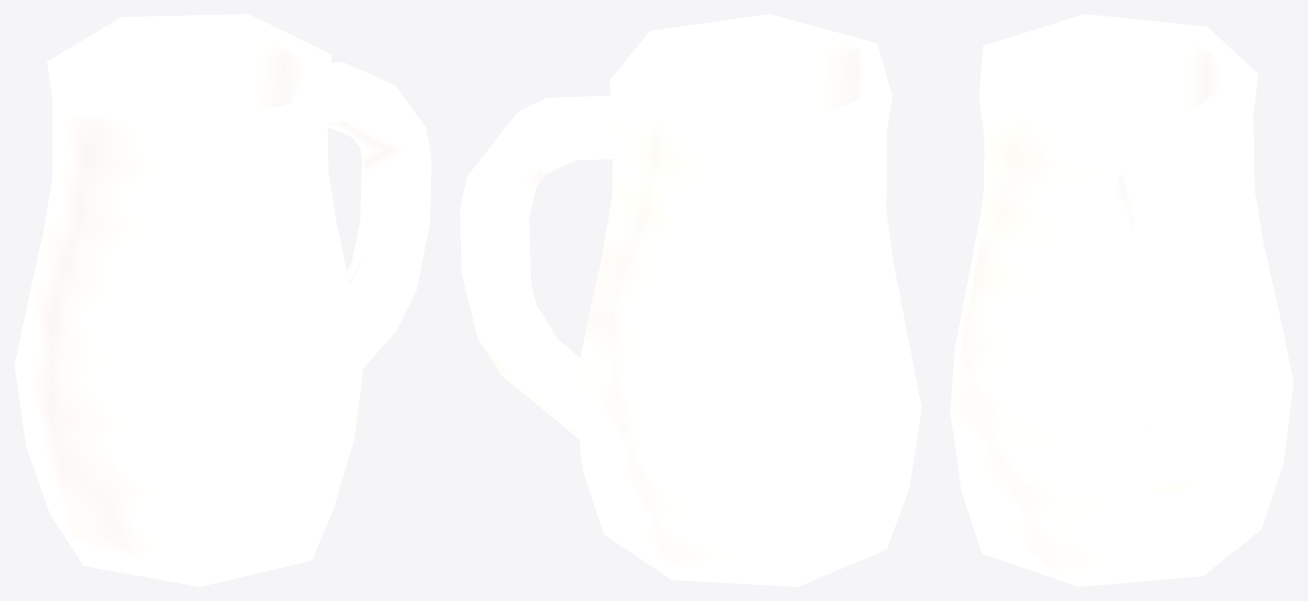
Rendered from mug.glb.
The picture shows the model from 3 angles, left to right: view 1: azimuth 30°, elevation 25°; view 2: azimuth 150°, elevation 25°; view 3: azimuth 270°, elevation 25°; orthographic projection.
Parts seen in each view (by area): view 1: defaultMaterial.008; view 2: defaultMaterial.008; view 3: defaultMaterial.008.
Part boxes in pixels (x1,y1,x2,y2): defaultMaterial.008: (14,14,431,586); defaultMaterial.008: (460,14,921,586); defaultMaterial.008: (950,14,1293,586).
Bounding box in the file's own units: 0.2994 × 0.3177 × 0.217.
1 material, 1 textured.
